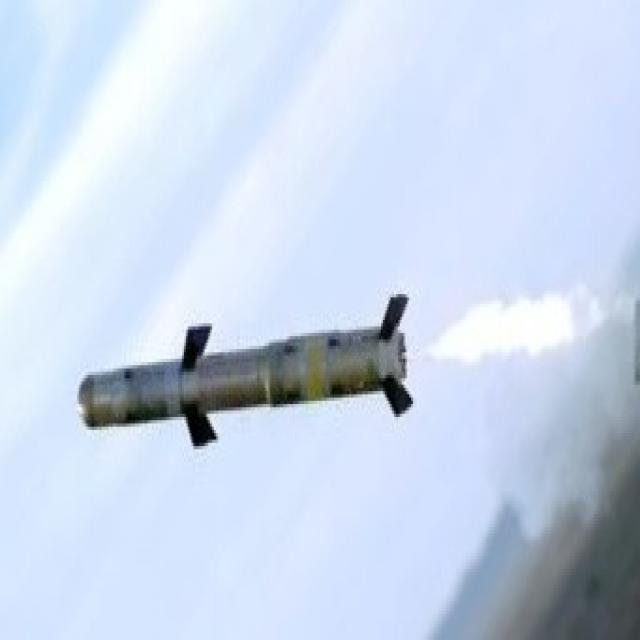missile: (67, 326, 409, 432)
